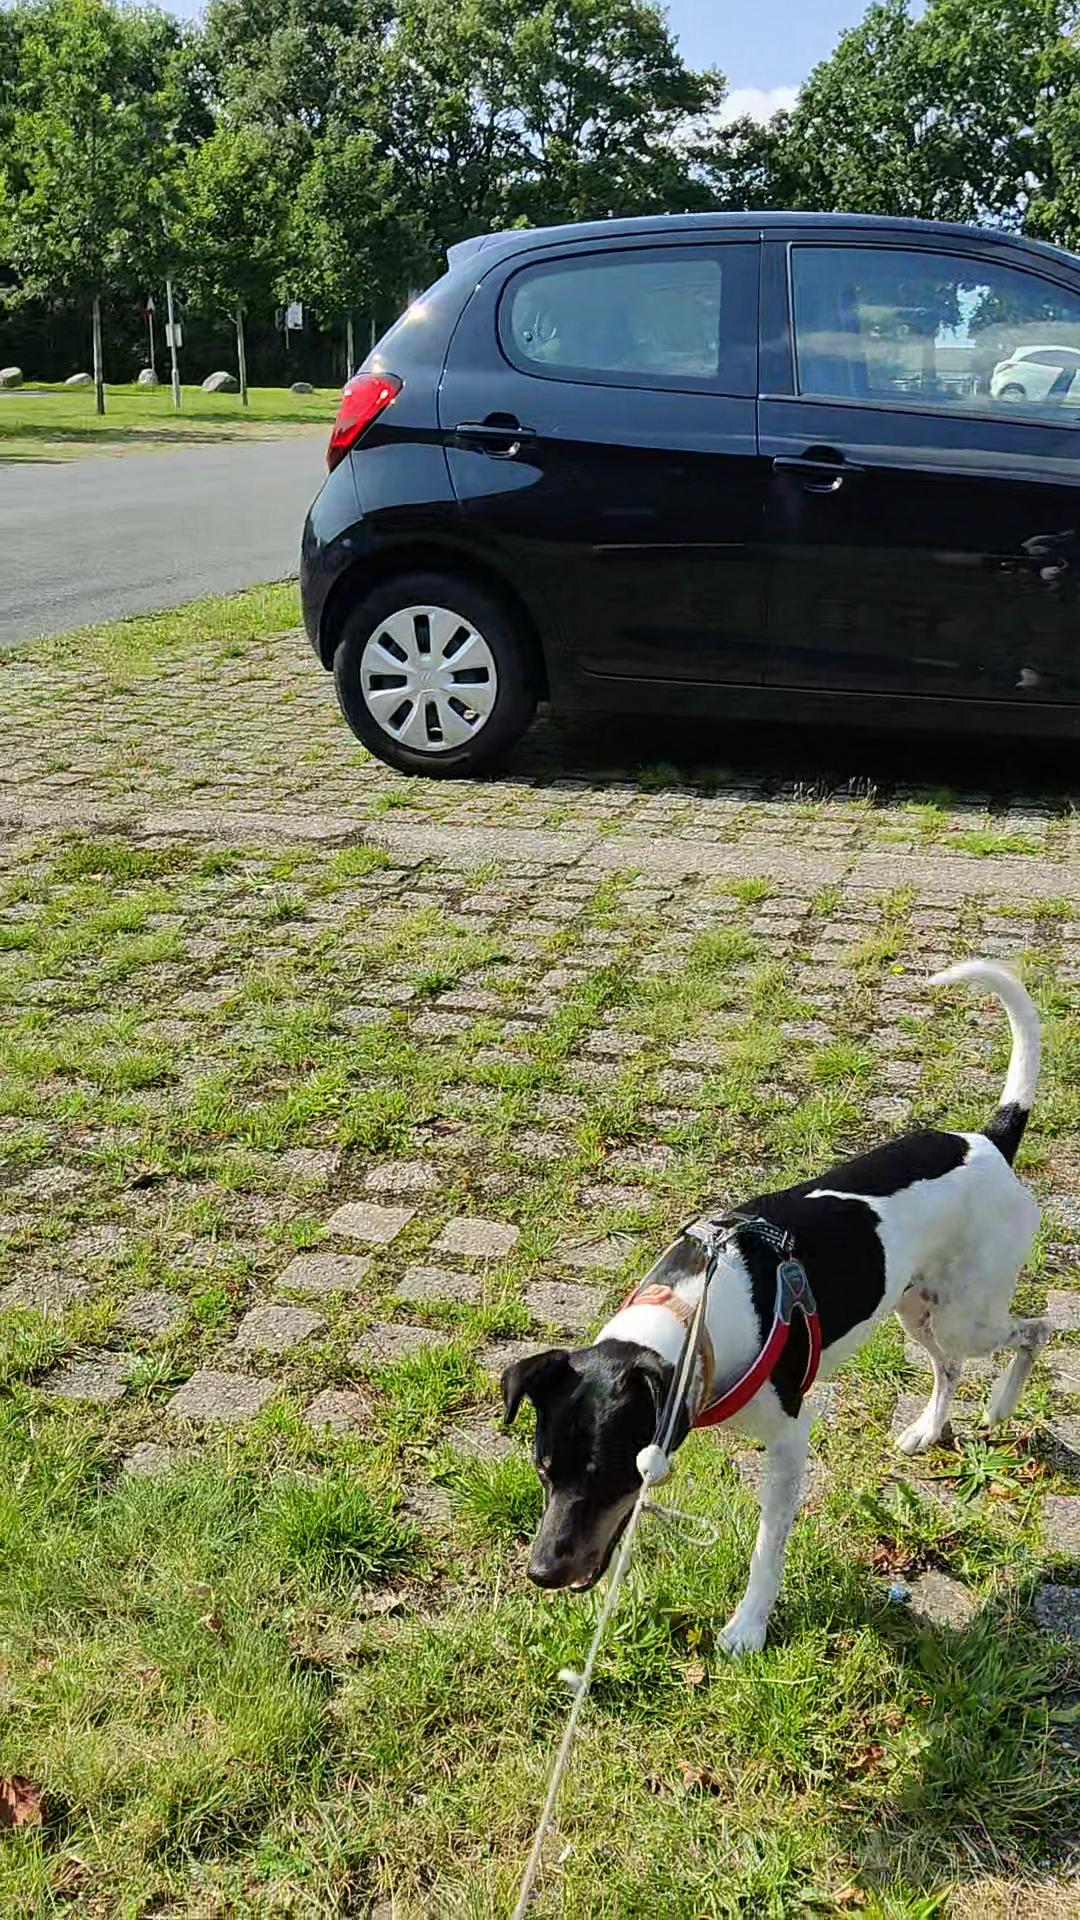Dog: (471, 920, 1059, 1683)
